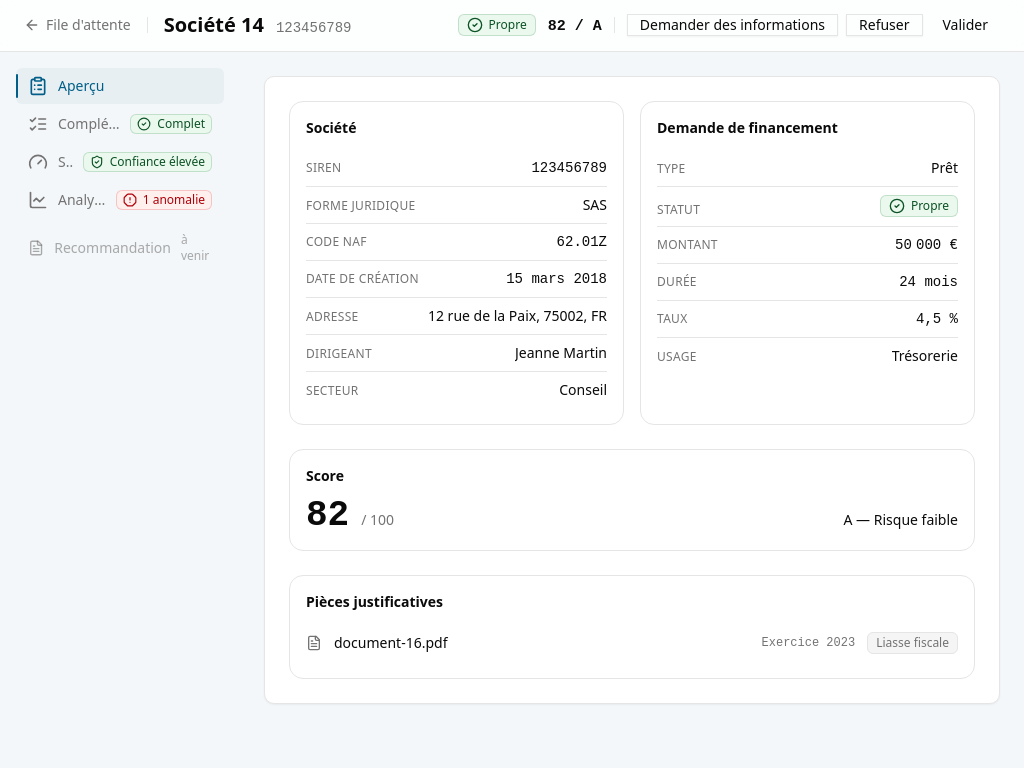
Test case: Workspace — Analyse section › renders the pre-assessment and anomaly cards with mitigants
Click the button "Analyse financière 1 anomalie" at (120, 200), box [16,182,224,218]
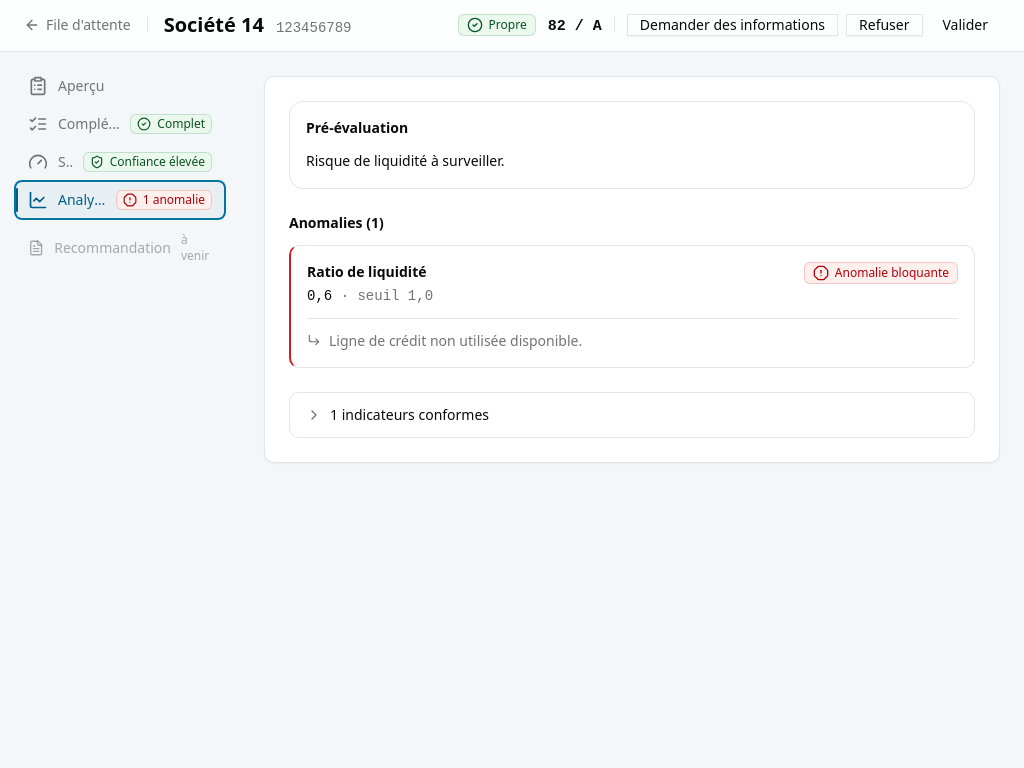
Now the text "Risque de liquidité à surveiller." is shown, box [306,150,505,170]
Now the text "Ligne de crédit non utilisée disponible." is shown, box [329,331,582,351]
